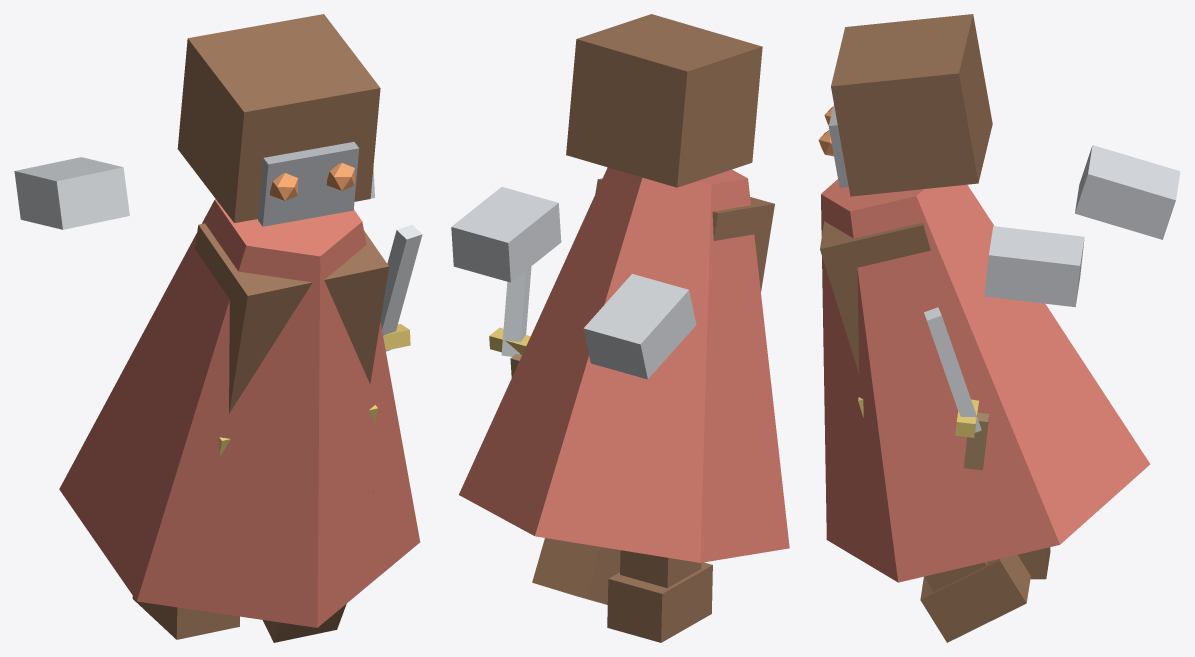
File: npcpose_raider_idle_10.glb
3 views of the same model, side by side, from view 1: azimuth 30°, elevation 25°; view 2: azimuth 150°, elevation 25°; view 3: azimuth 270°, elevation 25° (orthographic). The views are drawn at different scales.
Parts seen in each view (by area): view 1: npcpose; view 2: npcpose; view 3: npcpose.
Part boxes in pixels (x1,y1,x2,y2): npcpose: (14,14,422,642); npcpose: (451,14,789,642); npcpose: (818,14,1180,642).
Size of the model in its own units: 0.8226 by 1.63 by 0.9438.
